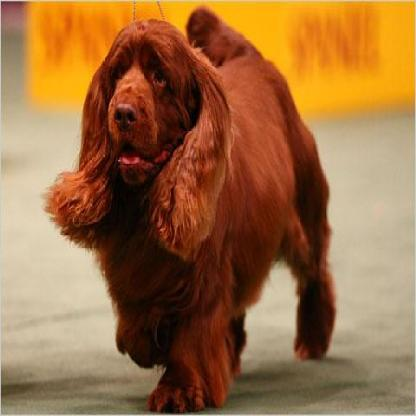Sussex_spaniel: (28, 0, 342, 413)
